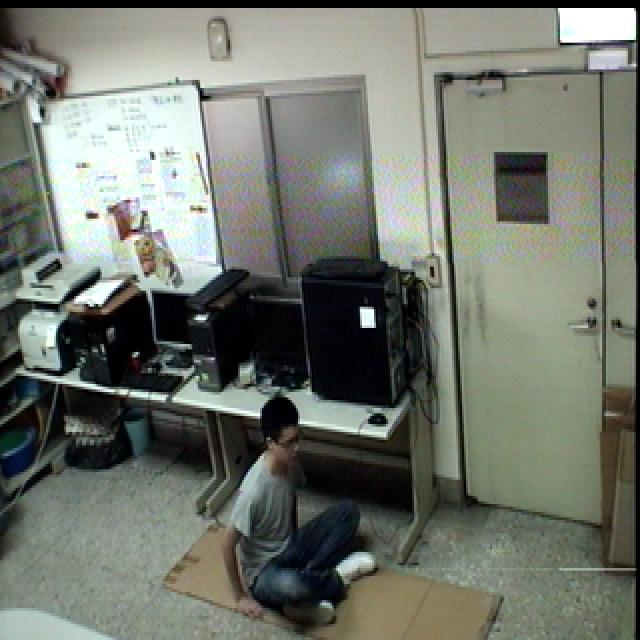sit: (215, 374, 389, 630)
